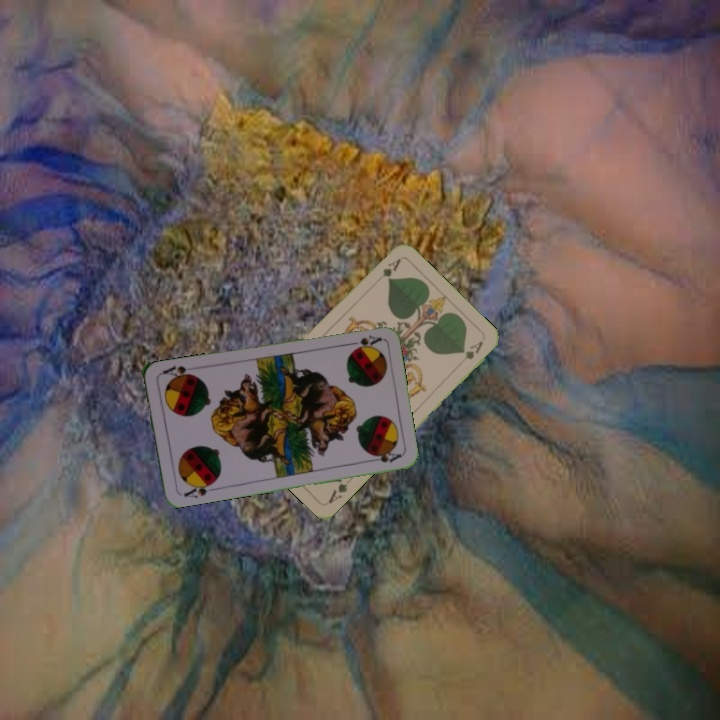GA: (374, 254, 404, 283), (324, 475, 350, 506)
SA: (343, 331, 384, 352), (180, 478, 217, 500)
